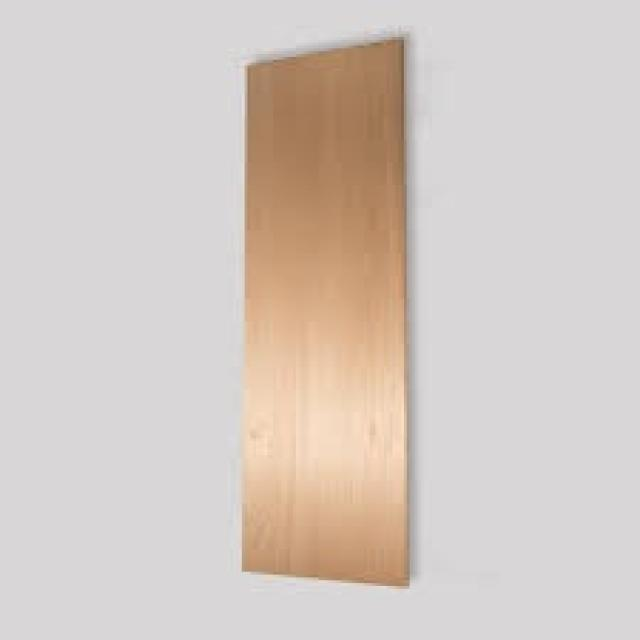door: (239, 37, 410, 589)
